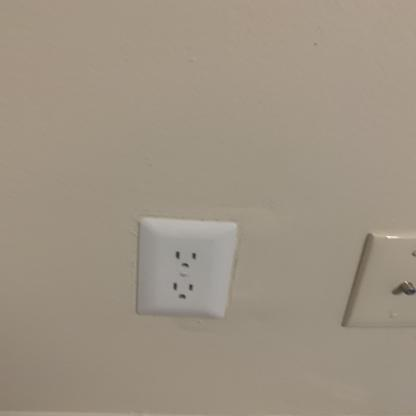OUTLET: (136, 216, 232, 317)
